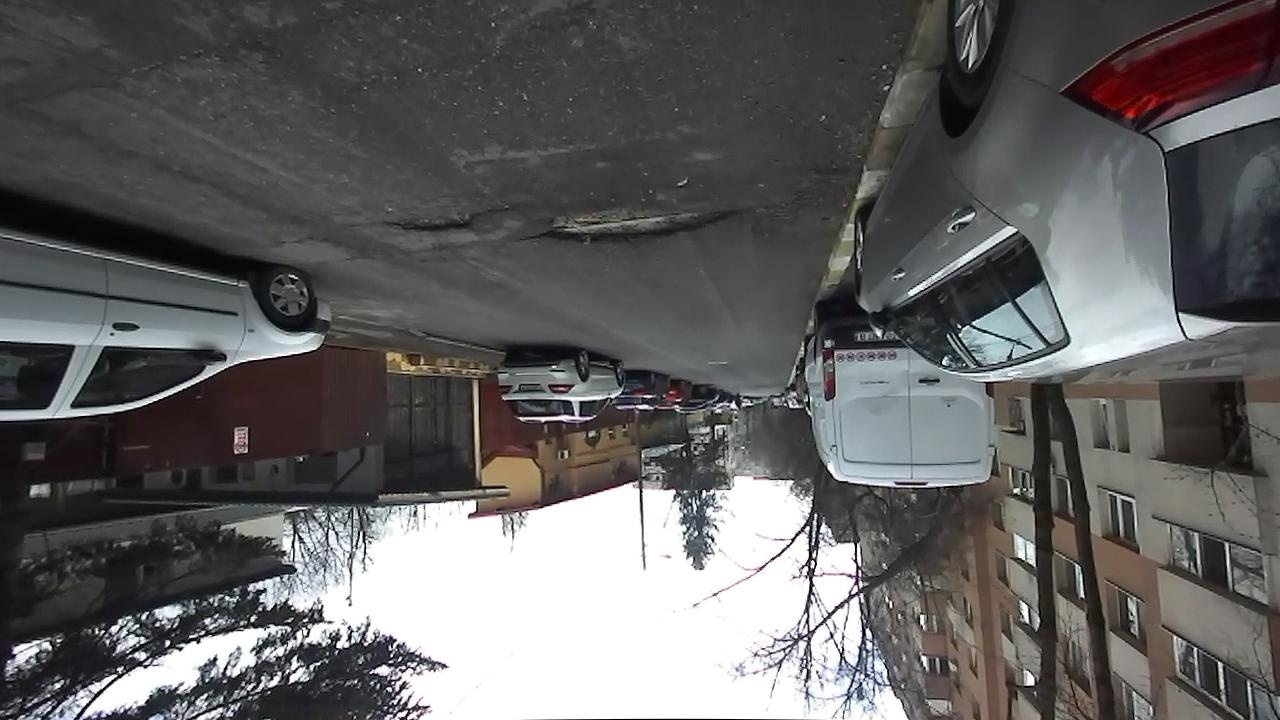pothole: (519, 197, 753, 248), (380, 204, 512, 236)
